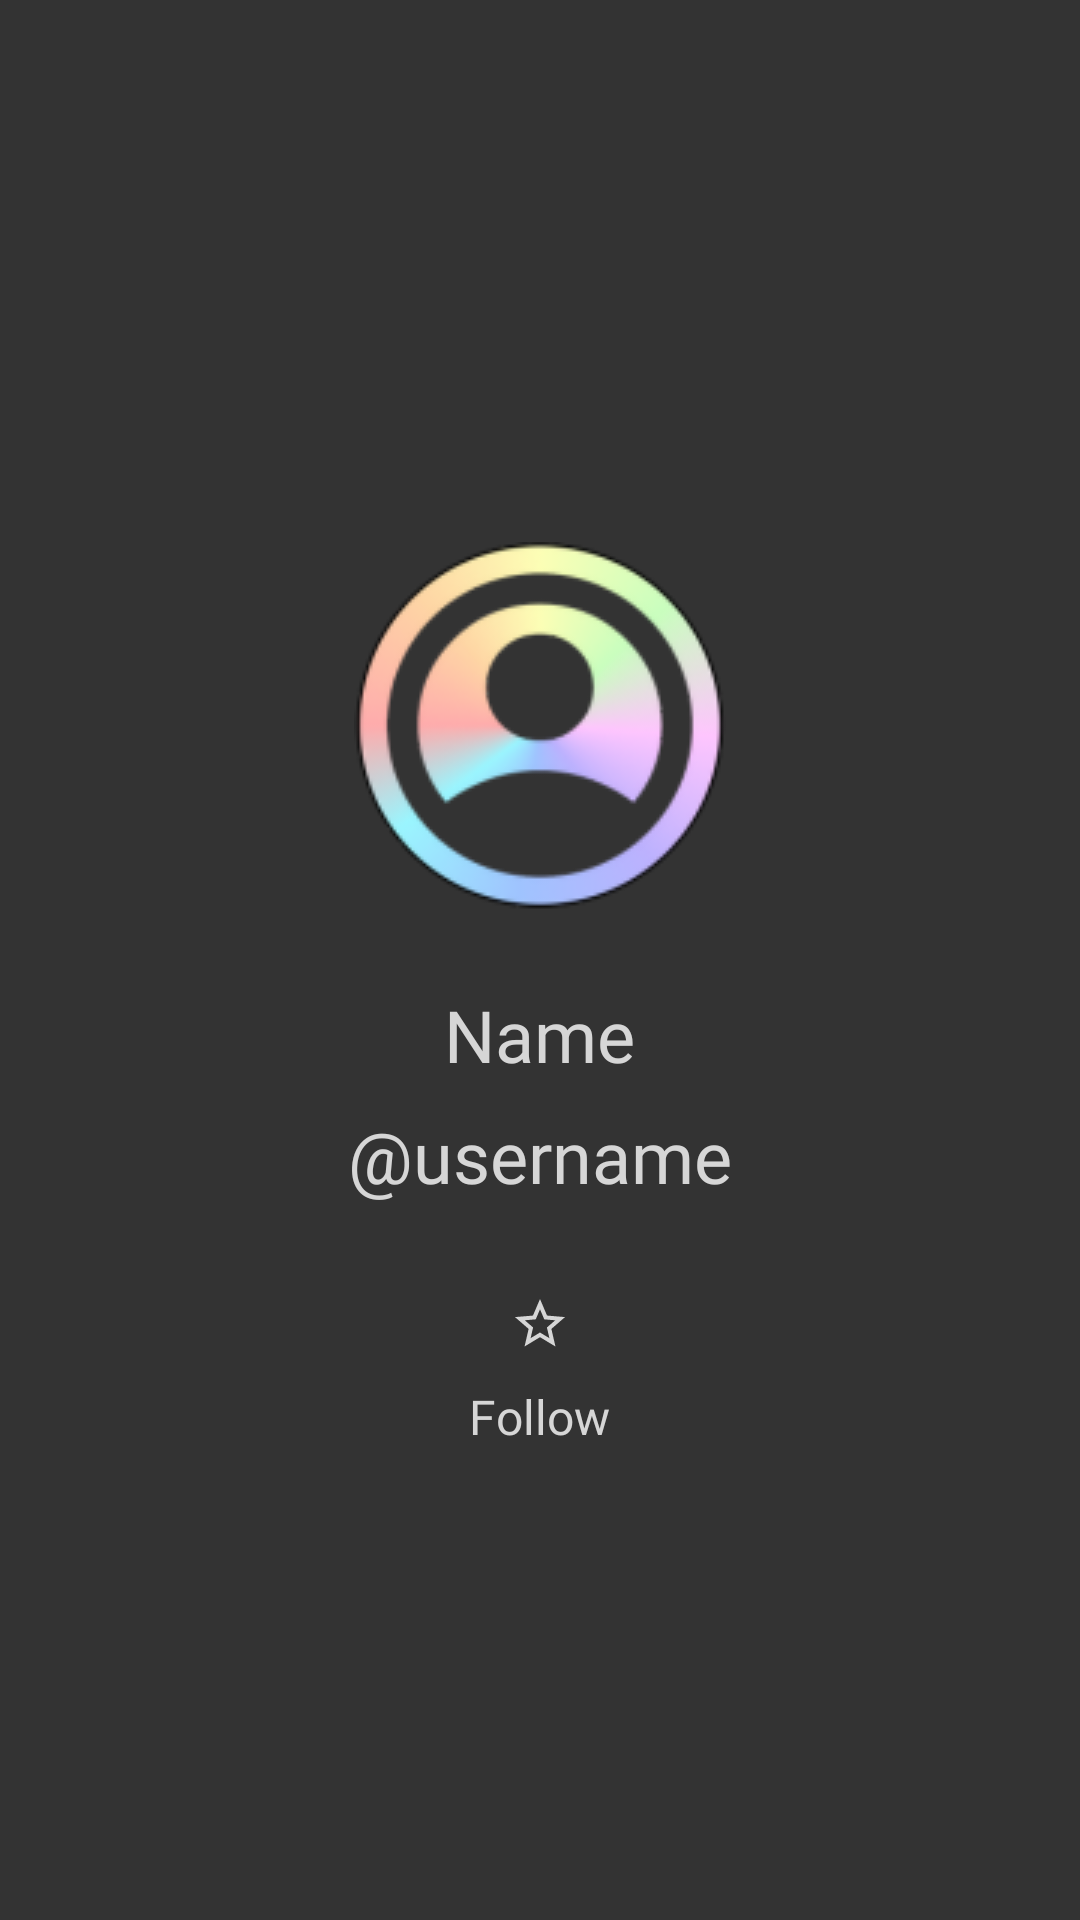

Where icons sit on this 1080 × 1920 app screen, as bbox(x1, y1, x2, y2):
star: bbox(515, 1299, 565, 1346)
